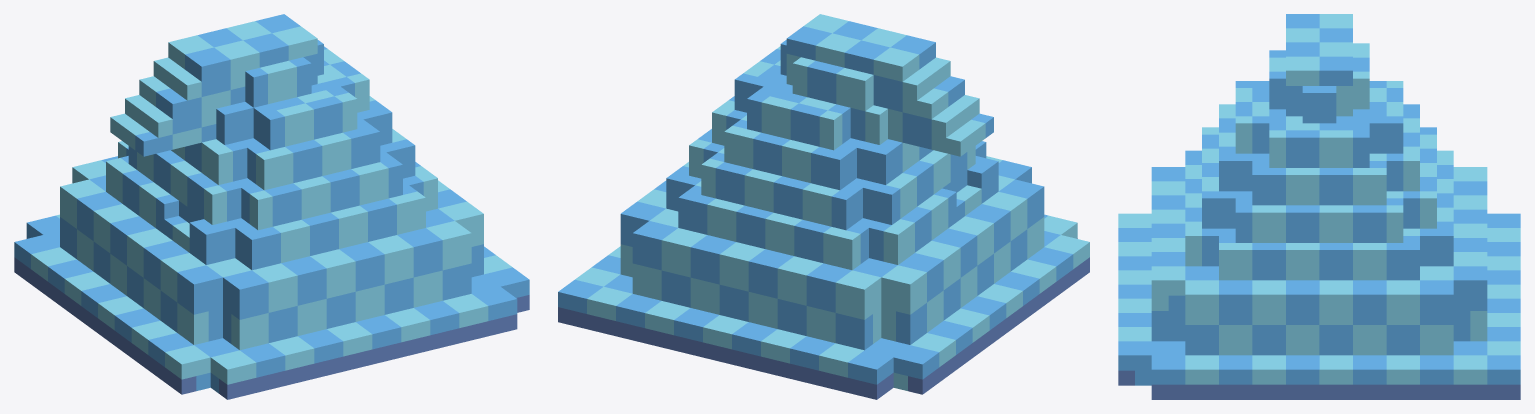
3 views of the same model, side by side, from view 1: azimuth 30°, elevation 25°; view 2: azimuth 150°, elevation 25°; view 3: azimuth 270°, elevation 25° (orthographic).
Parts seen in each view (by area): view 1: 90; view 2: 90; view 3: 90.
Boxes of the visible parts, x1,y1,x2,y2 form: 90: (14,14,529,399); 90: (558,14,1089,399); 90: (1118,14,1520,399).
Bounding box in the file's own units: 240 × 170 × 240.
Materials: 1 (1 with a texture image).
